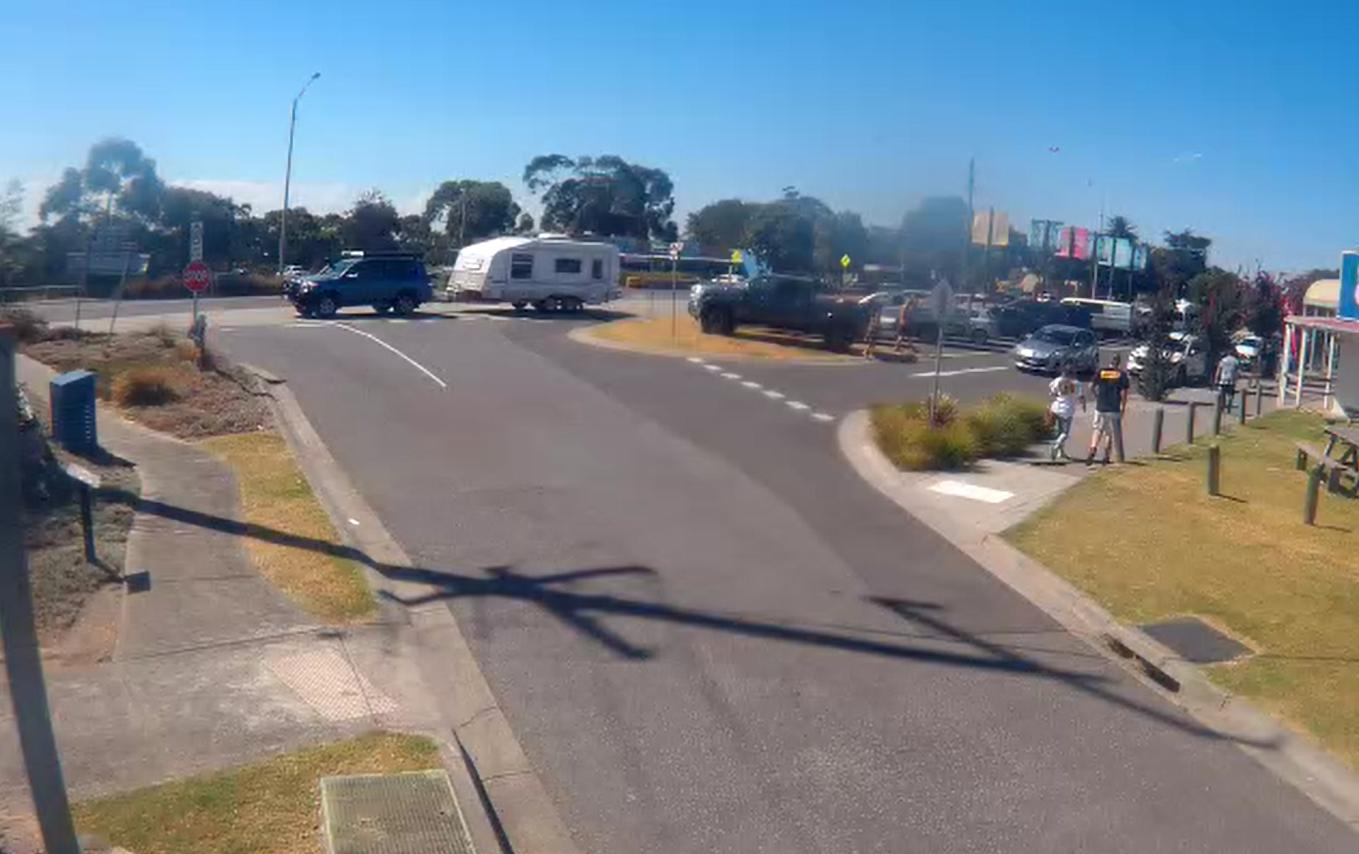VEHICLE TYPE 1: (692, 270, 869, 349), (1014, 320, 1104, 379)
VEHICLE TYPE 2: (297, 235, 625, 321)
wheel: (824, 326, 852, 355), (705, 307, 730, 337), (397, 290, 420, 320), (315, 294, 340, 321)
